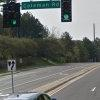Traffic light: (2, 3, 24, 36)
